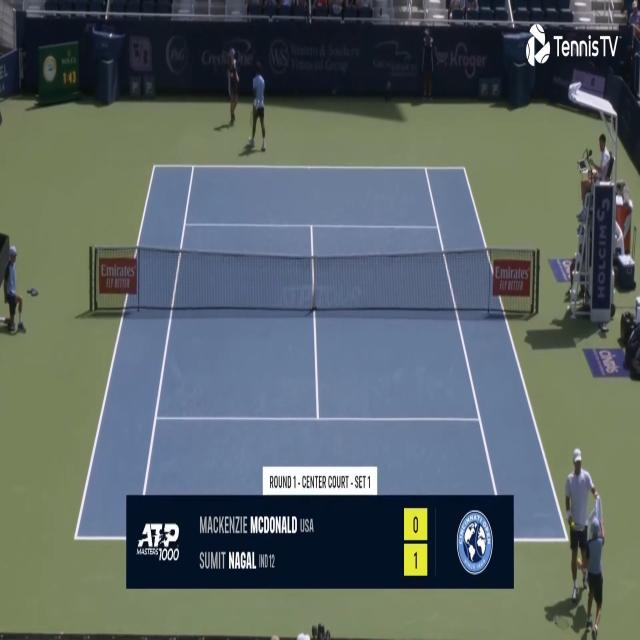tennis-player: (561, 444, 608, 637), (244, 63, 271, 155)
